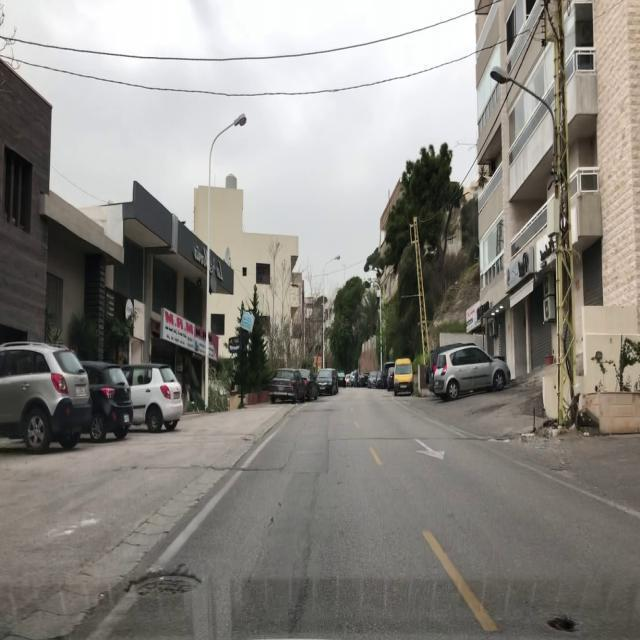pothole: (126, 567, 203, 601), (546, 613, 579, 636)
